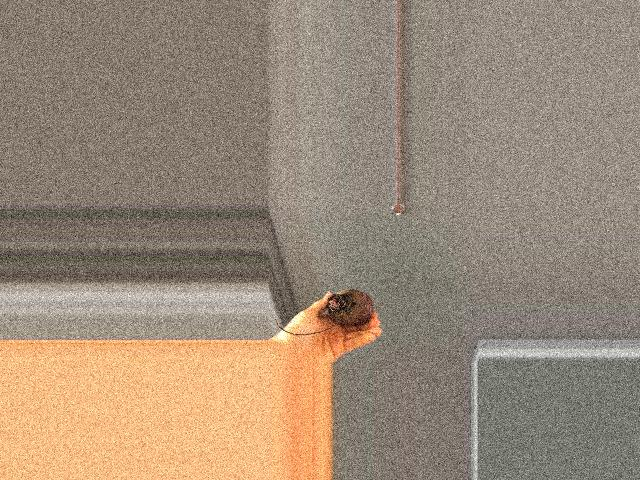beet: (275, 290, 385, 336)
